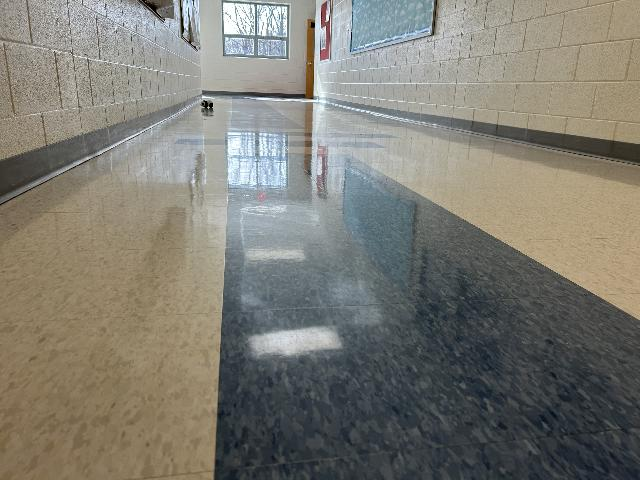panda_plushie: (201, 100, 213, 108)
